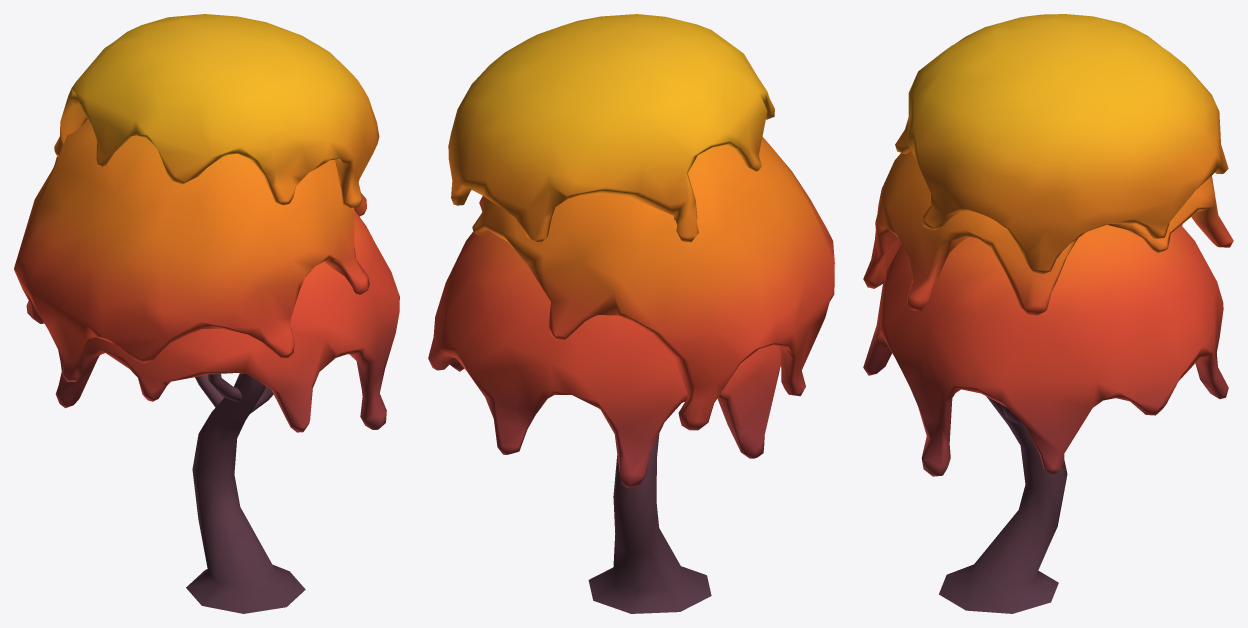
File: tree_pack_17.glb
3 views of the same model, side by side, from view 1: azimuth 30°, elevation 25°; view 2: azimuth 150°, elevation 25°; view 3: azimuth 270°, elevation 25° (orthographic). The views are drawn at different scales.
Visible parts, largest first — view 1: Tree.017; view 2: Tree.017; view 3: Tree.017.
Part boxes in pixels (bbox=[...]): Tree.017: bbox=[14, 14, 399, 613]; Tree.017: bbox=[428, 14, 834, 613]; Tree.017: bbox=[863, 14, 1233, 613].
Bounding box in the file's own units: 3.77 × 5.76 × 3.52.
Materials: 1 (1 with a texture image).
